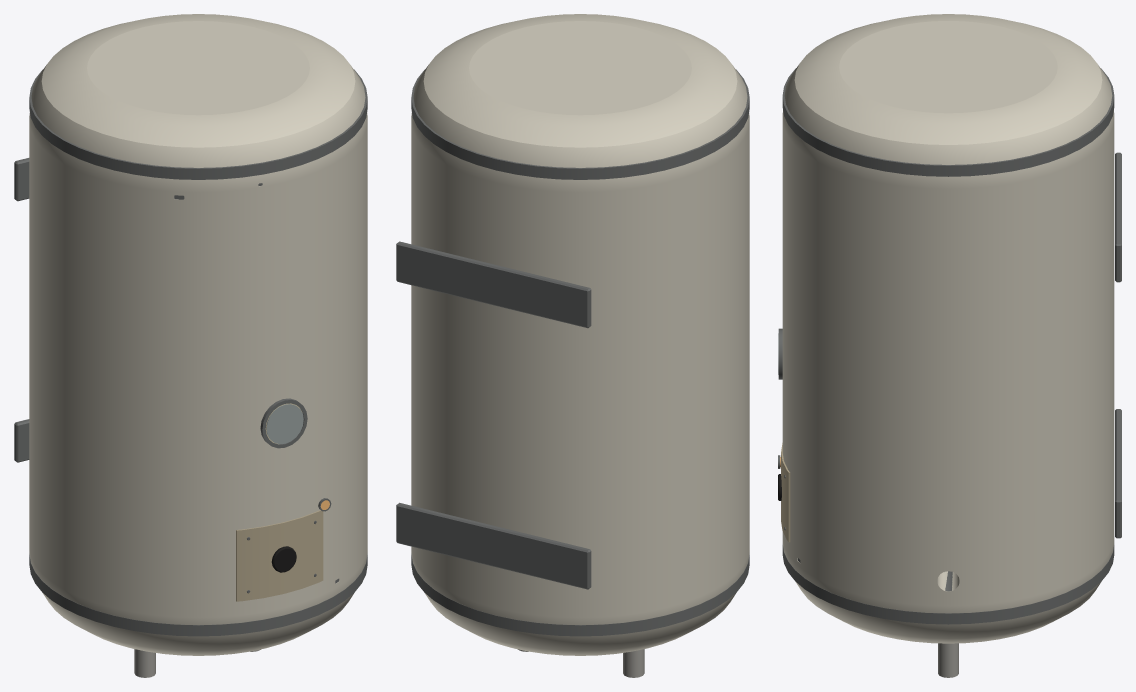
File: boiler-drum-0c09e947fb14.glb
3 renders of one model, left to right at view 1: azimuth 30°, elevation 25°; view 2: azimuth 150°, elevation 25°; view 3: azimuth 270°, elevation 25°, orthographic.
Visible parts, largest first — view 1: enamel, metal, enamel-beige, glass-clear, brushed; view 2: enamel, metal, brushed; view 3: enamel, metal, enamel-beige, brushed.
Boxes of the visible parts, x1,y1,x2,y2 form: enamel: [29, 14, 367, 655]; metal: [14, 69, 367, 636]; enamel-beige: [236, 510, 323, 601]; glass-clear: [266, 404, 303, 444]; brushed: [134, 649, 260, 677]; enamel: [411, 14, 749, 655]; metal: [396, 69, 749, 636]; brushed: [518, 649, 644, 677]; enamel: [782, 14, 1114, 643]; metal: [778, 68, 1121, 624]; enamel-beige: [781, 443, 790, 542]; brushed: [938, 643, 958, 677].
Bounding box in the file's own units: 0.44 × 0.85 × 0.456.
